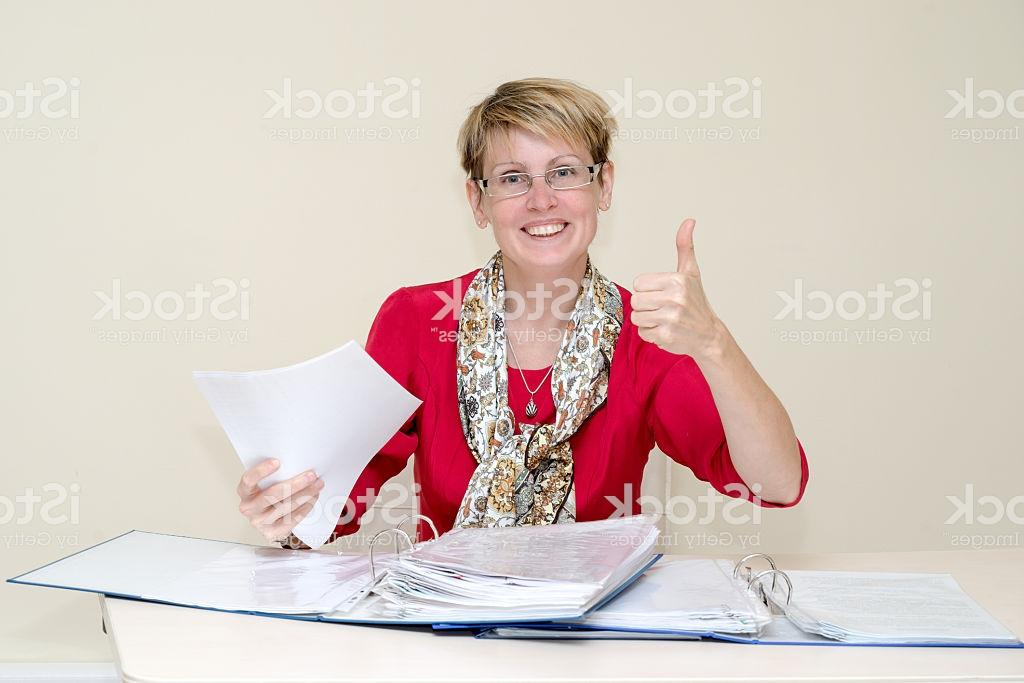thumbsup: (628, 217, 707, 355)
